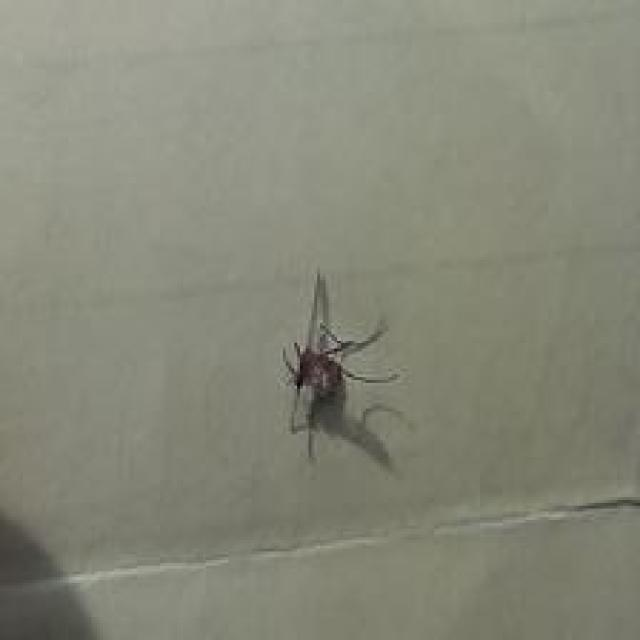Culex: (278, 267, 413, 473)
